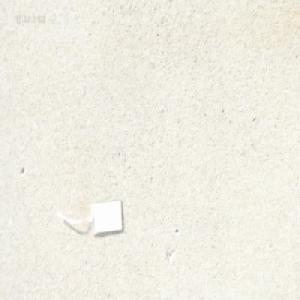LuggageTag: (57, 196, 127, 237)
